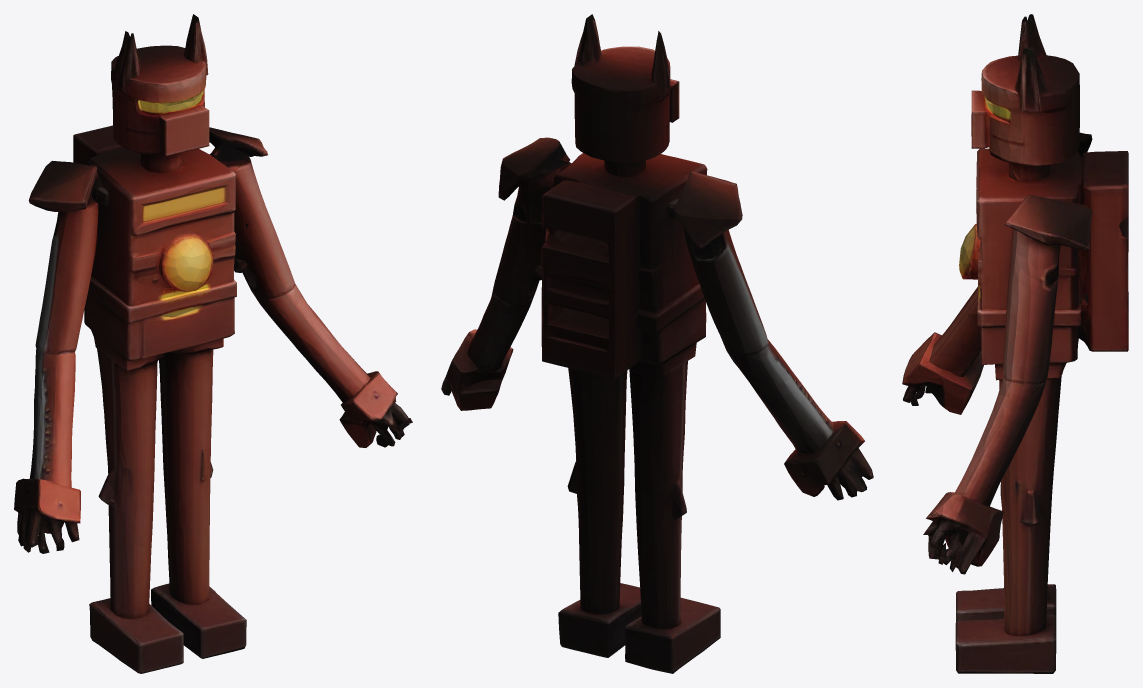
The model's file is cinderlimb.glb.
The picture shows the model from 3 angles, left to right: view 1: azimuth 30°, elevation 25°; view 2: azimuth 150°, elevation 25°; view 3: azimuth 270°, elevation 25°; orthographic projection. The views are drawn at different scales.
Parts seen in each view (by area): view 1: world; view 2: world; view 3: world.
Boxes of the visible parts, x1,y1,x2,y2 form: world: (14,14,412,673); world: (441,14,873,673); world: (902,14,1128,673).
Bounding box in the file's own units: 0.6831 × 1 × 0.3318.
Materials: 1 (1 with a texture image).
